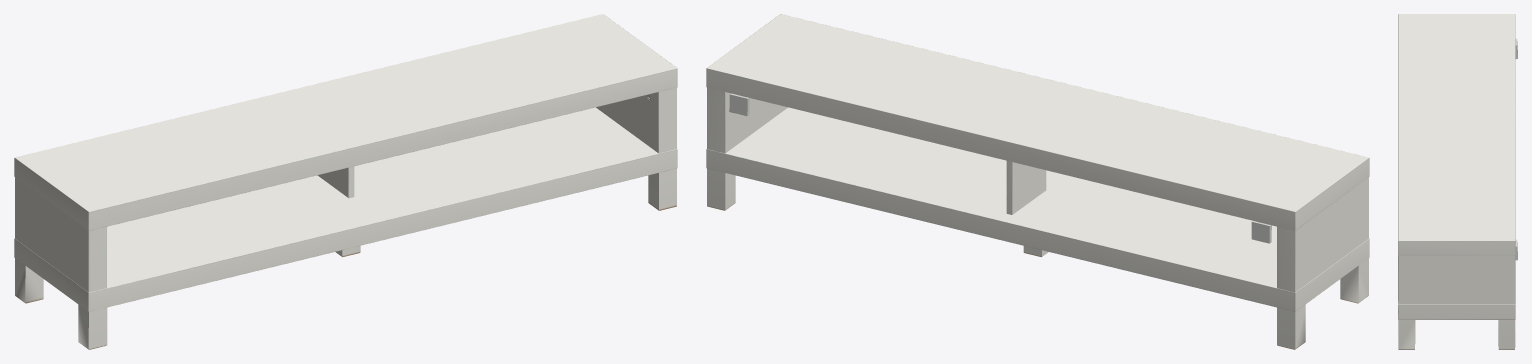
Rendered from 13 - LACK TV bench - white 160x35x36 cm.glb.
3 views of the same model, side by side, from view 1: azimuth 30°, elevation 25°; view 2: azimuth 150°, elevation 25°; view 3: azimuth 270°, elevation 25° (orthographic). The views are drawn at different scales.
Visible parts, largest first — view 1: model; view 2: model; view 3: model.
Part boxes in pixels (x1,y1,x2,y2): model: (14, 14, 677, 349); model: (706, 14, 1369, 349); model: (1398, 14, 1517, 349).
Bounding box in the file's own units: 1.6 × 0.3601 × 0.357.
1 material, 1 textured.
